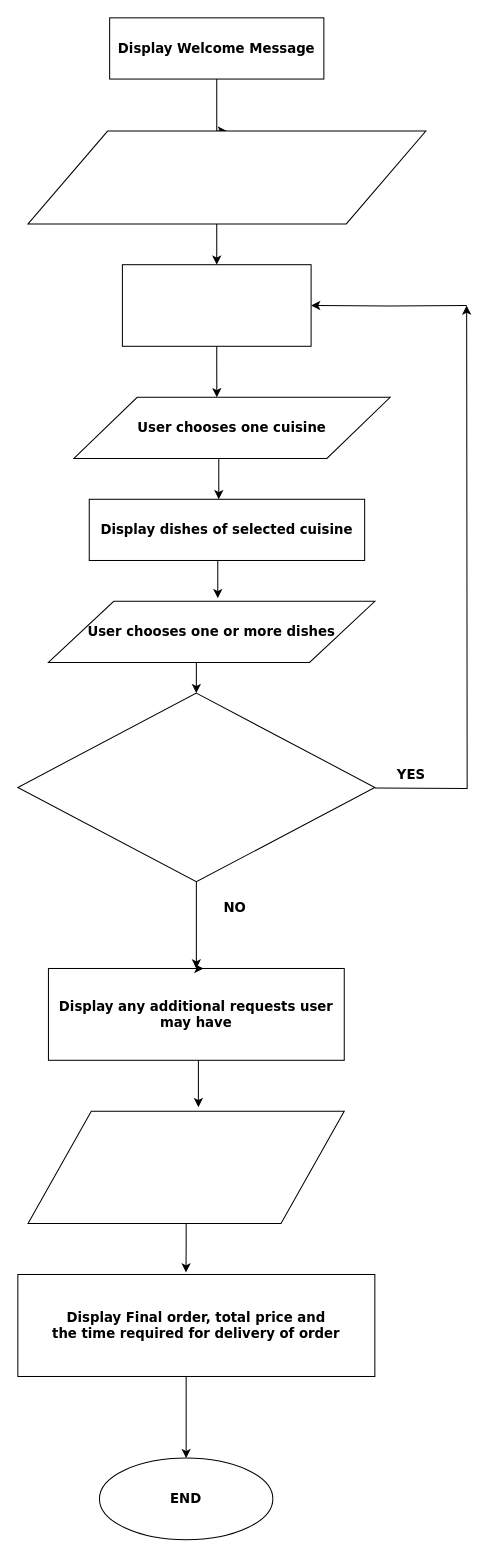
Image size: 494x1558. Some labels were removed from this diagram. Each missing label, with the centre of its shape:
"Display choices of cuisine" belongs at point (216, 305).
"Display message whether user wants to choose from another cuisine" belongs at point (196, 787).
"Input from user on delivery address" belongs at point (185, 1166).
"User signs in with username and password" belongs at point (226, 177).
